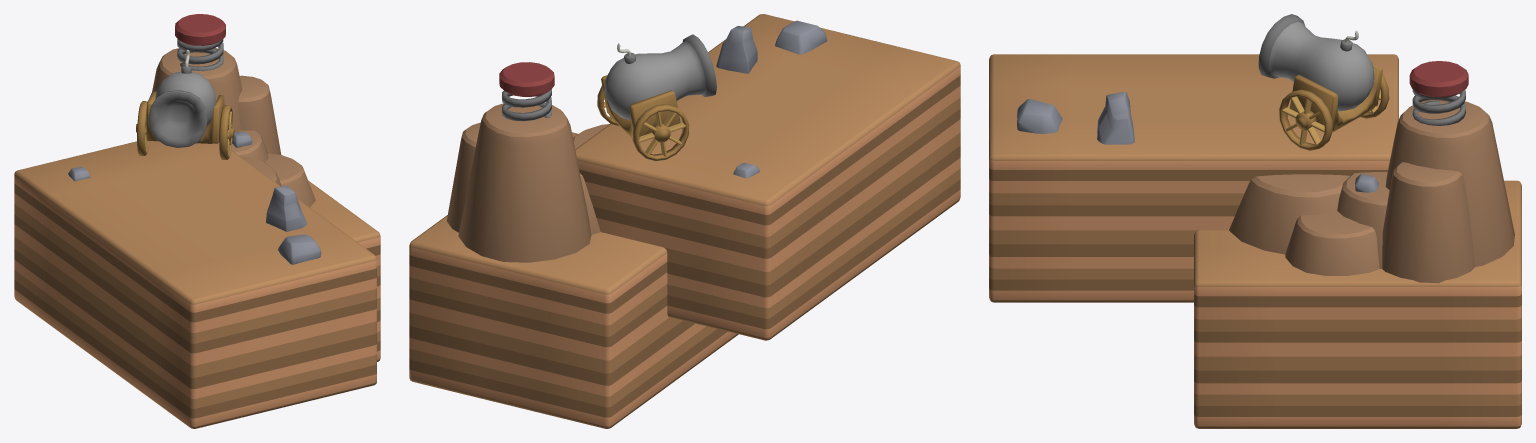
Rendered from Rock_1_2.gltf.
The picture shows the model from 3 angles, left to right: view 1: azimuth 30°, elevation 25°; view 2: azimuth 150°, elevation 25°; view 3: azimuth 270°, elevation 25°; orthographic projection. The views are drawn at different scales.
Parts seen in each view (by area): view 1: Rock_1_2; view 2: Rock_1_2; view 3: Rock_1_2.
Part boxes in pixels (<box>): Rock_1_2: <box>14,14,380,428</box>; Rock_1_2: <box>409,14,960,428</box>; Rock_1_2: <box>989,14,1521,428</box>.
Size of the model in its own units: 9 by 8.93 by 13.
